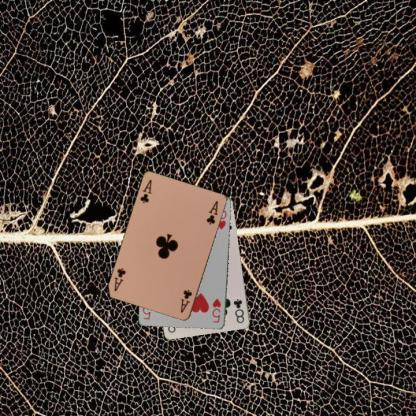5h: (210, 296, 222, 324)
8c: (232, 296, 246, 325)
Ac: (178, 287, 194, 314), (138, 178, 154, 204)
